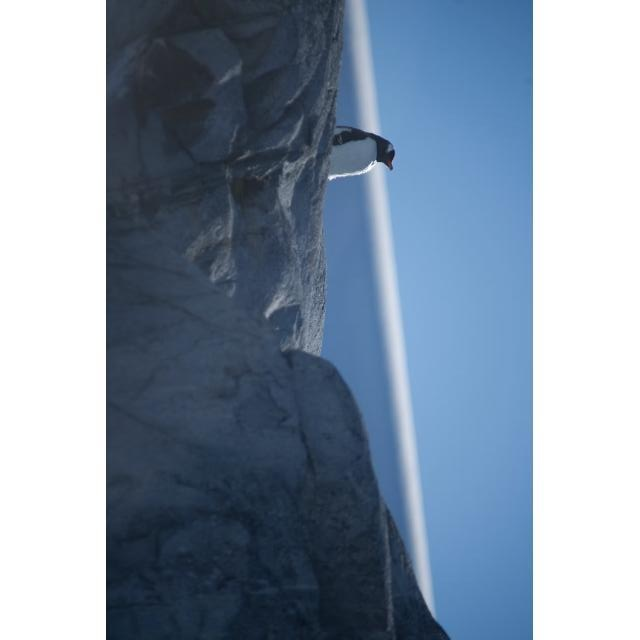penguin: (322, 123, 396, 181)
